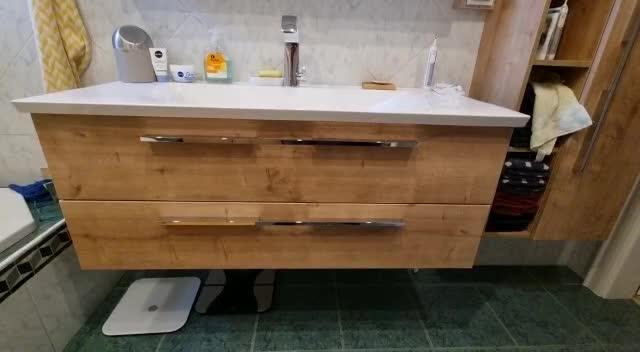cabinet_door: (54, 124, 501, 202), (68, 201, 482, 268)
handle: (156, 217, 412, 236), (276, 133, 424, 153), (138, 133, 259, 147)
